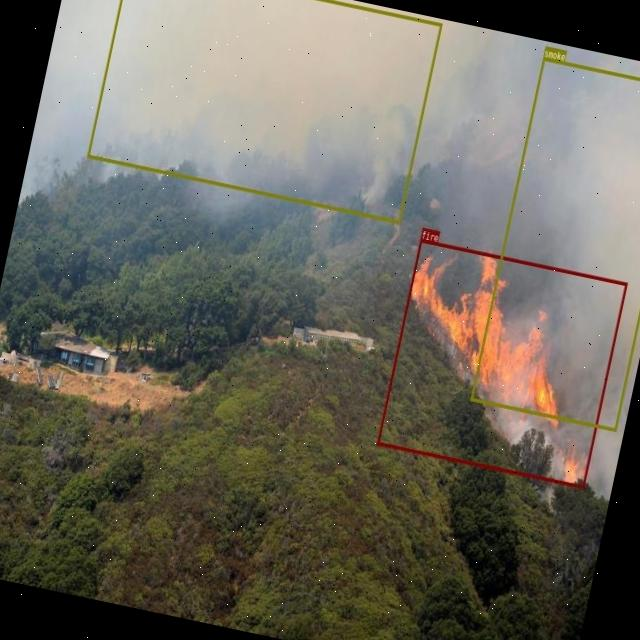fire: (376, 238, 626, 487)
smoke: (86, 0, 441, 222), (469, 56, 640, 430)
